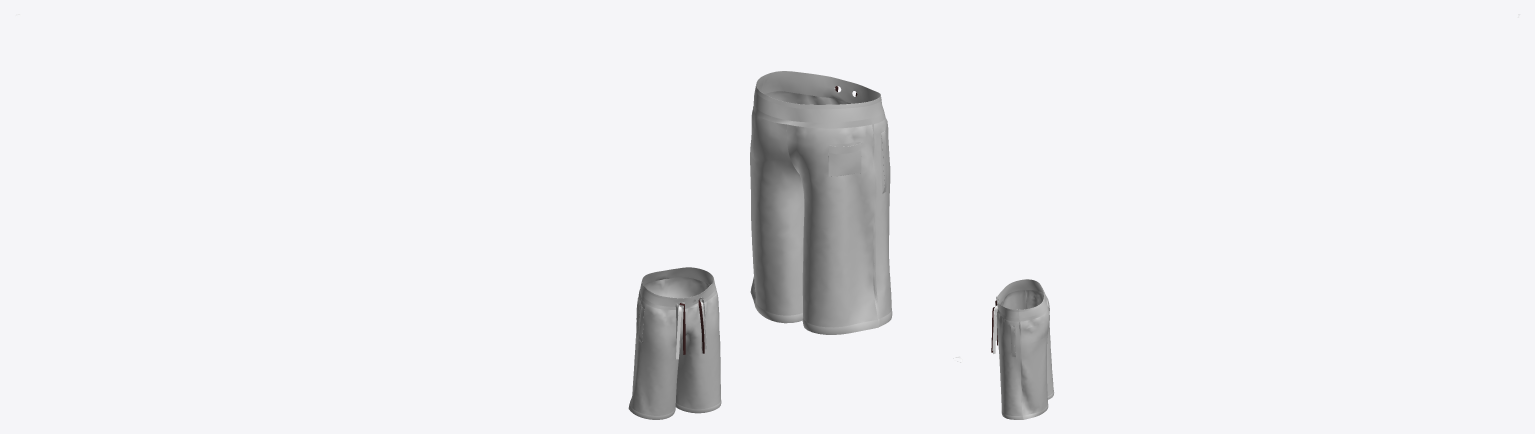
3 views of the same model, side by side, from view 1: azimuth 30°, elevation 25°; view 2: azimuth 150°, elevation 25°; view 3: azimuth 270°, elevation 25° (orthographic). The views are drawn at different scales.
Parts seen in each view (by area): view 1: Object_2; view 2: Object_2; view 3: Object_2.
Boxes of the visible parts, box(x1,y1,x2,y2) form: Object_2: box(628, 267, 721, 419); Object_2: box(750, 71, 892, 334); Object_2: box(996, 279, 1054, 419).
Bounding box in the file's own units: 20.03 × 12.71 × 25.89.
